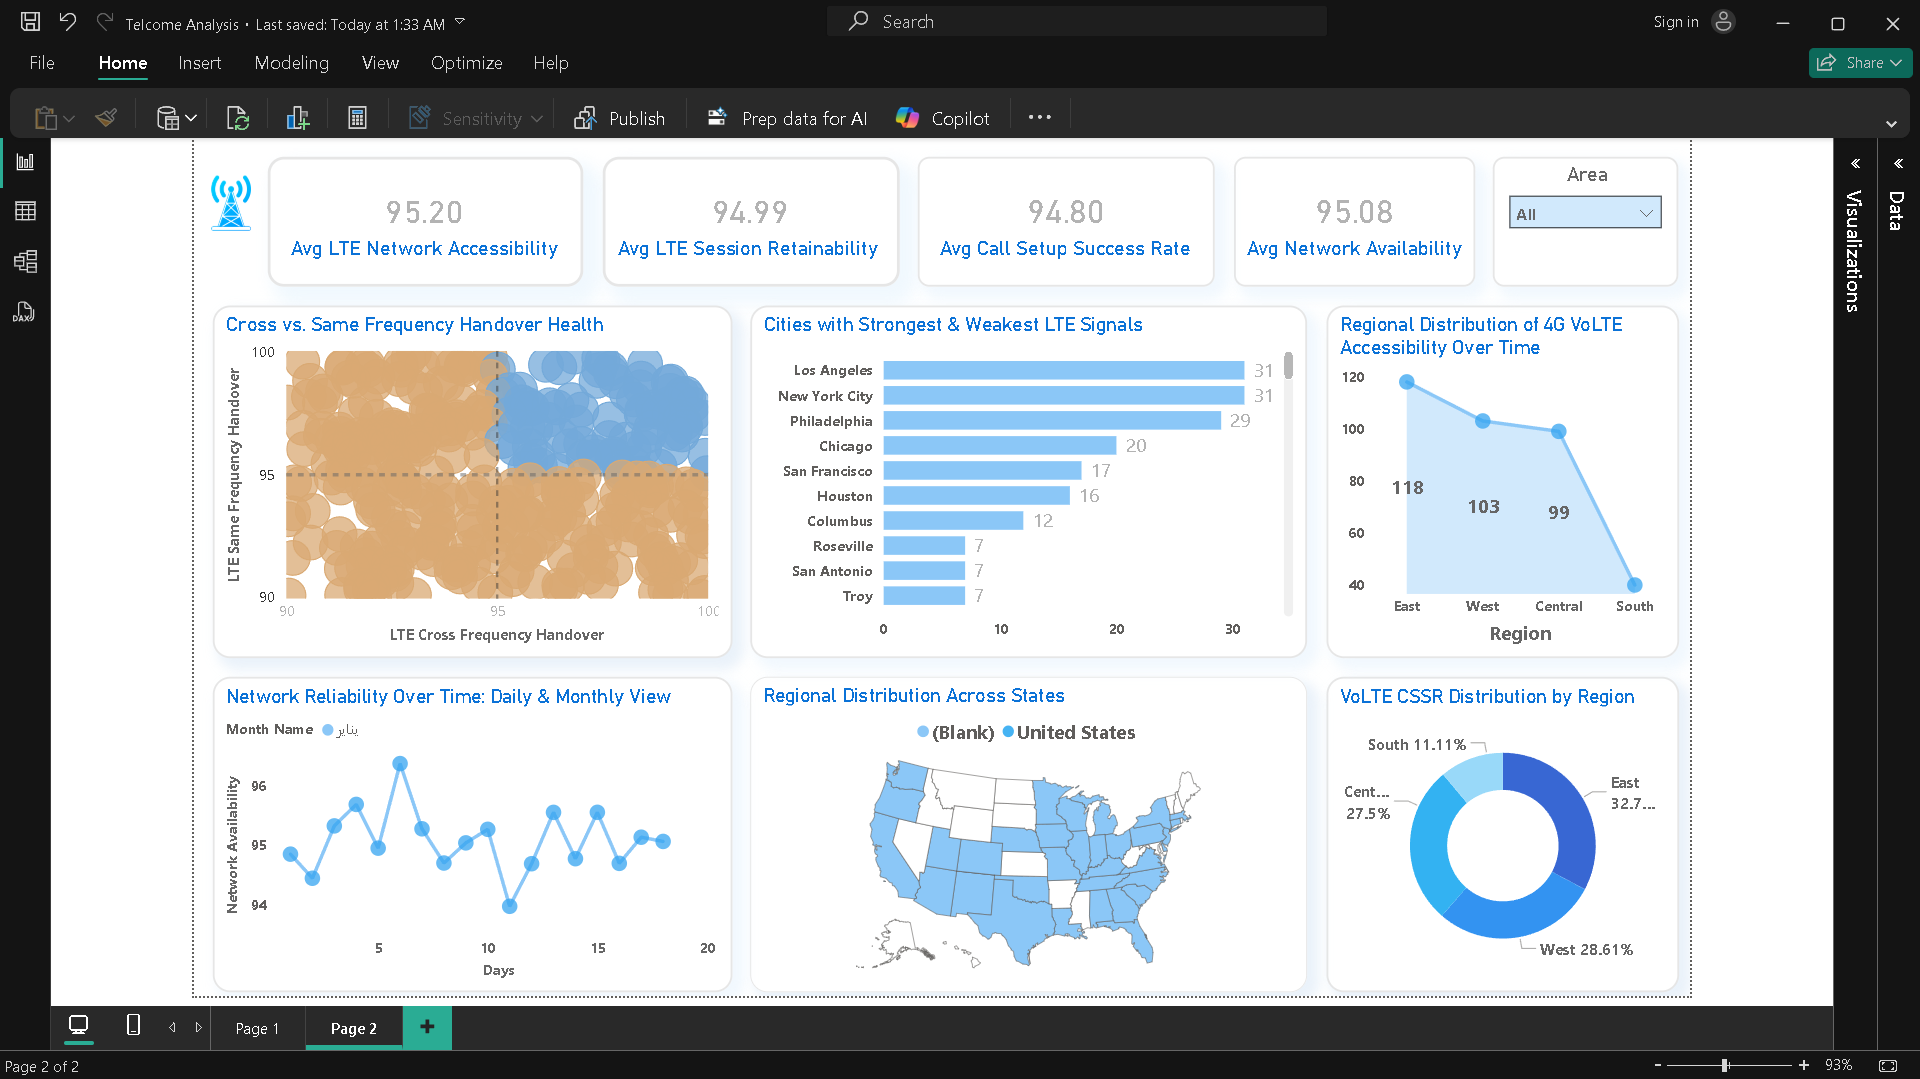

The page's visual inventory and layout, read from the dashboard file:
{"tool":"powerbi","page":{"name":"Page 2","canvas":[1290,740],"ordinal":1},"visuals":[{"type":"card","fields":{"Values":["Data Service Measure.Avg LTE Accessibility"]},"box":[64,16,272,112],"z":0},{"type":"card","fields":{"Values":["Data Service Measure.Avg LTE Retainability"]},"box":[352,16,256,112],"z":1000},{"type":"card","fields":{"Values":["Data Service Measure.Network Uptime"]},"box":[896,16,208,112],"z":2000},{"type":"card","fields":{"Values":["Voice Service Measure.Avg Call Success Rate"]},"box":[624,16,256,112],"z":3000},{"type":"scatterChart","title":"Cross vs. Same Frequency Handover Health","fields":{"X":["Telcome Trend.LTE Cross Frequency Handover"],"Y":["Telcome Trend.LTE Same Frequency Handover"],"Size":["Data Service Measure.Size Alert"]},"box":[16,144,448,304],"z":4000},{"type":"barChart","title":"Cities with Strongest & Weakest LTE Signals","fields":{"Category":["Telcome Trend.City"],"Y":["CountNonNull(Telcome Trend.LTE Accessibility)"]},"box":[480,144,480,304],"z":5000},{"type":"donutChart","title":"VoLTE CSSR Distribution by Region","fields":{"Category":["Telcome Trend.Region"],"Y":["CountNonNull(Telcome Trend.Volte CSSR)"]},"box":[976,464,304,272],"z":6000},{"type":"lineChart","fields":{"Category":["Telcome Trend.Day"],"Y":["Data Service Measure.Network Availability"],"Series":["Telcome Trend.Month Name"]},"box":[16,464,448,272],"z":7000},{"type":"map","title":"Regional Distribution Across States","fields":{"Category":["Telcome Trend.State"],"Series":["Telcome Trend.Region"]},"box":[480,464,480,272],"z":8000},{"type":"stackedAreaChart","title":"Regional Distribution of 4G VoLTE Accessibility Over Time","fields":{"Y":["CountNonNull(Telcome Trend.4G VoLTE Accessibility)"],"Category":["Telcome Trend.Region"]},"box":[976,144,304,304],"z":9000},{"type":"image","box":[0,16,64,80],"z":10000},{"type":"slicer","title":"Area","fields":{"Values":["Telcome Trend.Area"]},"box":[1120,16,160,112],"z":11000}]}

Visuals, with their boxes on the page's 1290x740 design canvas (x1, y1, x2, y2). These are canvas units, not pixel positions in the 1920x1079 screenshot, which may show the page scaled, cropped or inside an application window:
card - Data Service Measure.Avg LTE Accessibility: l=64, t=16, r=336, b=128
card - Data Service Measure.Avg LTE Retainability: l=352, t=16, r=608, b=128
card - Data Service Measure.Network Uptime: l=896, t=16, r=1104, b=128
card - Voice Service Measure.Avg Call Success Rate: l=624, t=16, r=880, b=128
"Cross vs. Same Frequency Handover Health" scatterChart: l=16, t=144, r=464, b=448
"Cities with Strongest & Weakest LTE Signals" barChart: l=480, t=144, r=960, b=448
"VoLTE CSSR Distribution by Region" donutChart: l=976, t=464, r=1280, b=736
lineChart - Telcome Trend.Day x Data Service Measure.Network Availability: l=16, t=464, r=464, b=736
"Regional Distribution Across States" map: l=480, t=464, r=960, b=736
"Regional Distribution of 4G VoLTE Accessibility Over Time" stackedAreaChart: l=976, t=144, r=1280, b=448
image: l=0, t=16, r=64, b=96
"Area" slicer: l=1120, t=16, r=1280, b=128
